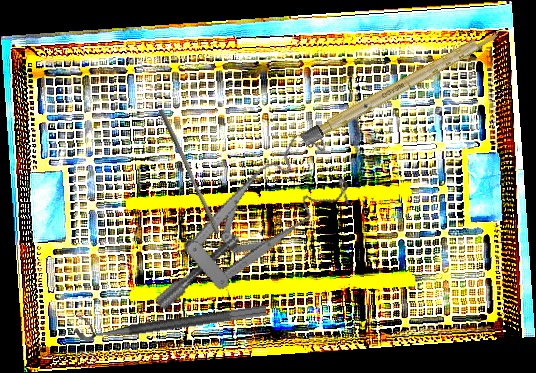Fixation Ring: (72, 288, 268, 344)
Pusher: (153, 108, 225, 235)
Scalpel Handle: (299, 25, 504, 147)
Speculum: (119, 124, 368, 313)
